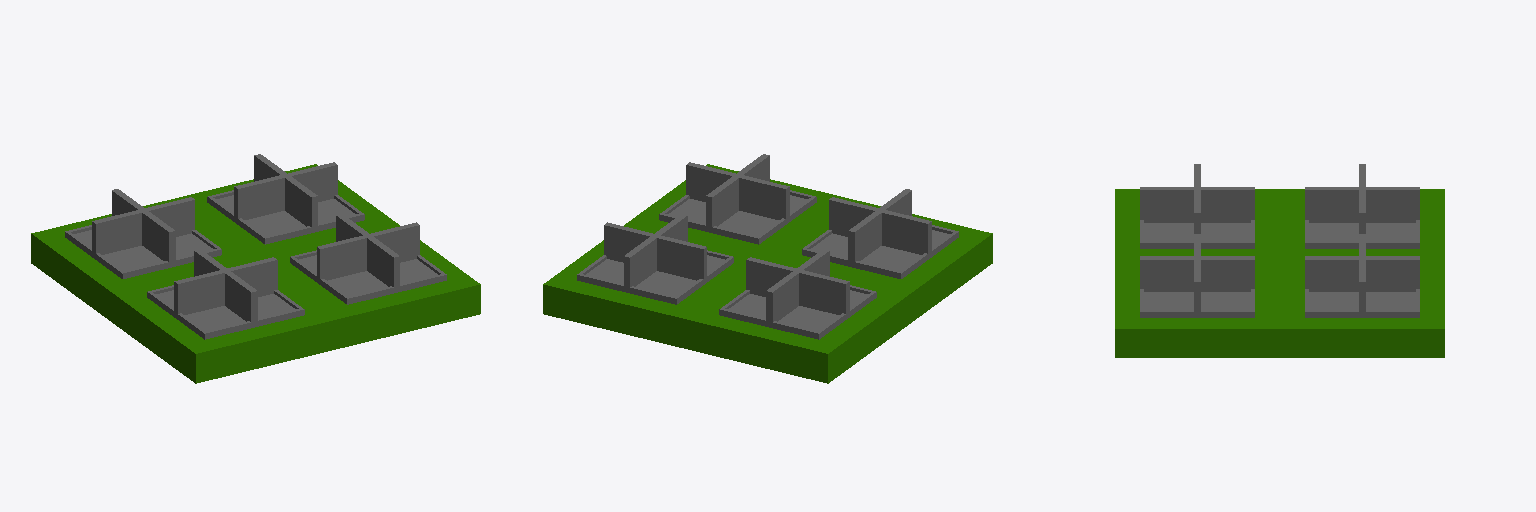
The model's file is Storage.obj.
3 views of the same model, side by side, from view 1: azimuth 30°, elevation 25°; view 2: azimuth 150°, elevation 25°; view 3: azimuth 270°, elevation 25° (orthographic).
Parts seen in each view (by area): view 1: Tilebase101, Plane003, Plane005, Plane004, Plane002; view 2: Tilebase101, Plane002, Plane004, Plane005, Plane003; view 3: Tilebase101, Plane004, Plane005, Plane002, Plane003.
Boxes of the visible parts, <box> form: Tilebase101: <box>31,164,480,383</box>; Plane003: <box>147,249,304,339</box>; Plane005: <box>290,214,446,304</box>; Plane004: <box>207,154,364,244</box>; Plane002: <box>65,189,221,278</box>; Tilebase101: <box>543,164,992,383</box>; Plane002: <box>719,249,876,339</box>; Plane004: <box>577,214,733,304</box>; Plane005: <box>659,154,816,244</box>; Plane003: <box>802,189,958,278</box>; Tilebase101: <box>1115,189,1444,357</box>; Plane004: <box>1305,234,1419,317</box>; Plane005: <box>1140,234,1254,317</box>; Plane002: <box>1305,164,1419,248</box>; Plane003: <box>1140,164,1254,248</box>.
Bounding box in the file's own units: 10 × 2.2 × 10.